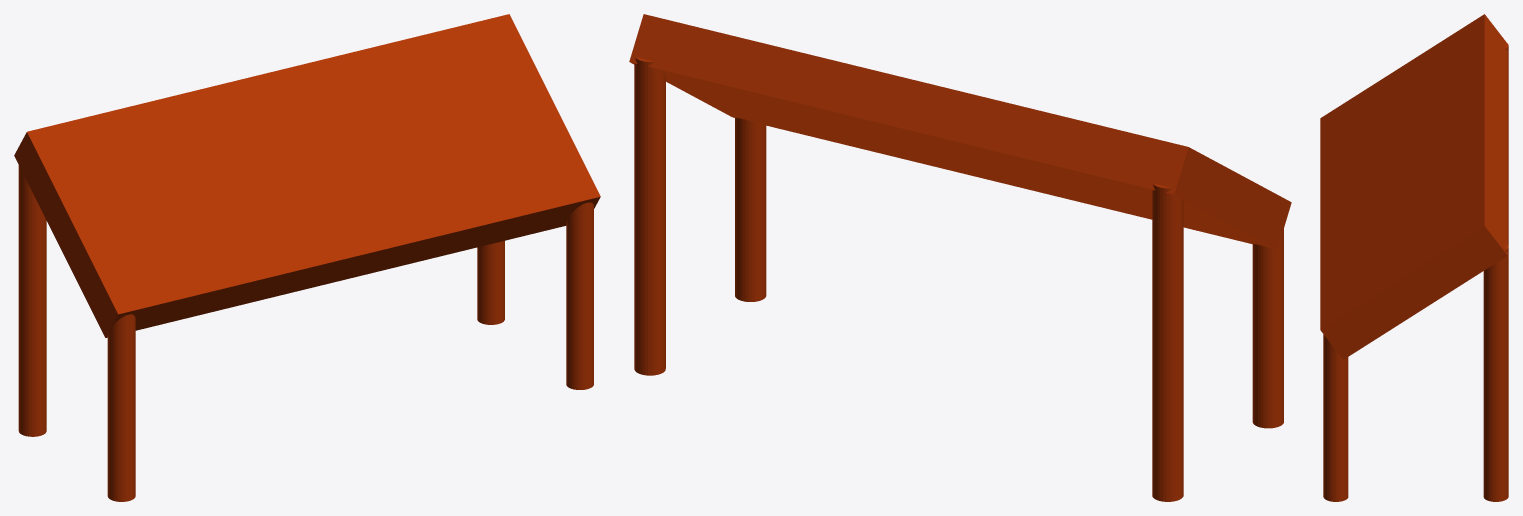
The model's file is Desk.glb.
The picture shows the model from 3 angles, left to right: view 1: azimuth 30°, elevation 25°; view 2: azimuth 150°, elevation 25°; view 3: azimuth 270°, elevation 25°; orthographic projection. The views are drawn at different scales.
Parts seen in each view (by area): view 1: Cube, Cylinder.002, Cylinder.003, Cylinder.001, Cylinder; view 2: Cube, Cylinder, Cylinder.002, Cylinder.003, Cylinder.001; view 3: Cube, Cylinder, Cylinder.001, Cylinder.002.
Boxes of the visible parts, <box> form: Cube: <box>14,14,600,337</box>; Cylinder.002: <box>18,165,46,436</box>; Cylinder.003: <box>107,314,135,501</box>; Cylinder.001: <box>566,202,593,389</box>; Cylinder: <box>477,241,504,324</box>; Cube: <box>629,14,1291,249</box>; Cylinder: <box>634,57,665,375</box>; Cylinder.002: <box>1152,183,1183,501</box>; Cylinder.003: <box>1252,229,1283,428</box>; Cylinder.001: <box>735,117,766,301</box>; Cube: <box>1320,14,1507,359</box>; Cylinder: <box>1483,243,1508,501</box>; Cylinder.001: <box>1323,334,1348,501</box>; Cylinder.002: <box>1505,42,1508,245</box>.
Bounding box in the file's own units: 2 × 1.21 × 0.7507.
